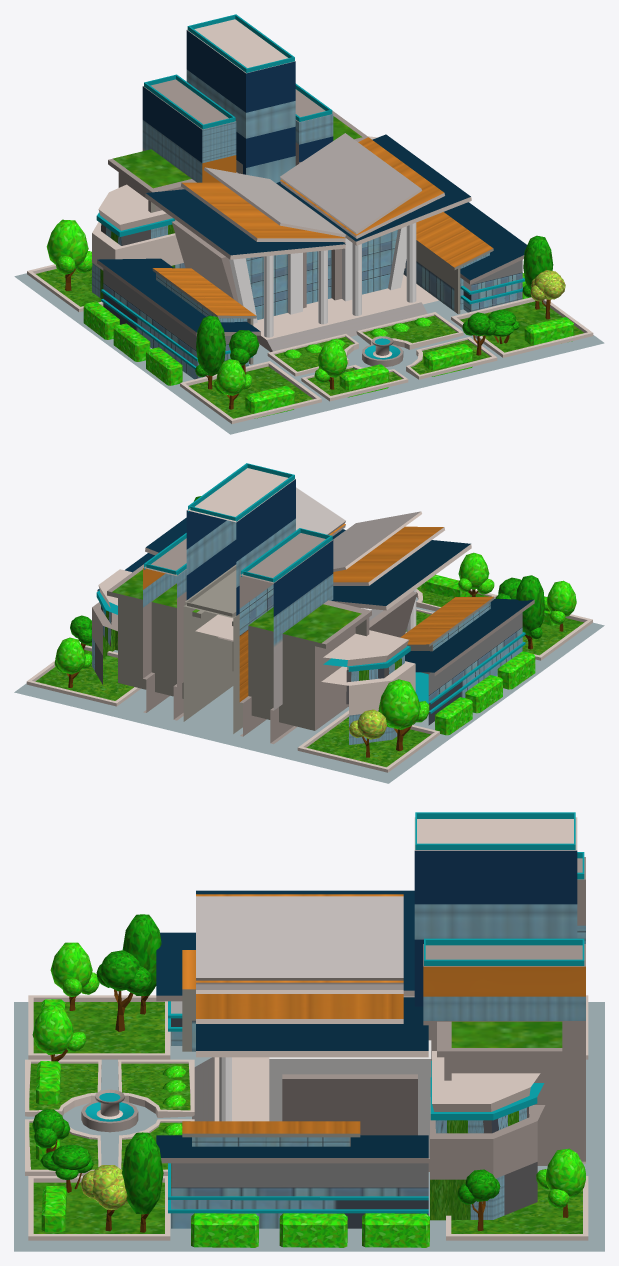
File: school_LV2.fbx
3 renders of one model, top to bottom at view 1: azimuth 30°, elevation 25°; view 2: azimuth 150°, elevation 25°; view 3: azimuth 270°, elevation 25°, orthographic. The views are drawn at different scales.
Parts seen in each view (by area): view 1: school 2; view 2: school 2; view 3: school 2.
Part boxes in pixels (bbox=[...]): school 2: bbox=[14, 14, 604, 434]; school 2: bbox=[14, 463, 604, 783]; school 2: bbox=[14, 812, 604, 1251].
Bounding box in the file's own units: 120 × 68.06 × 120.
